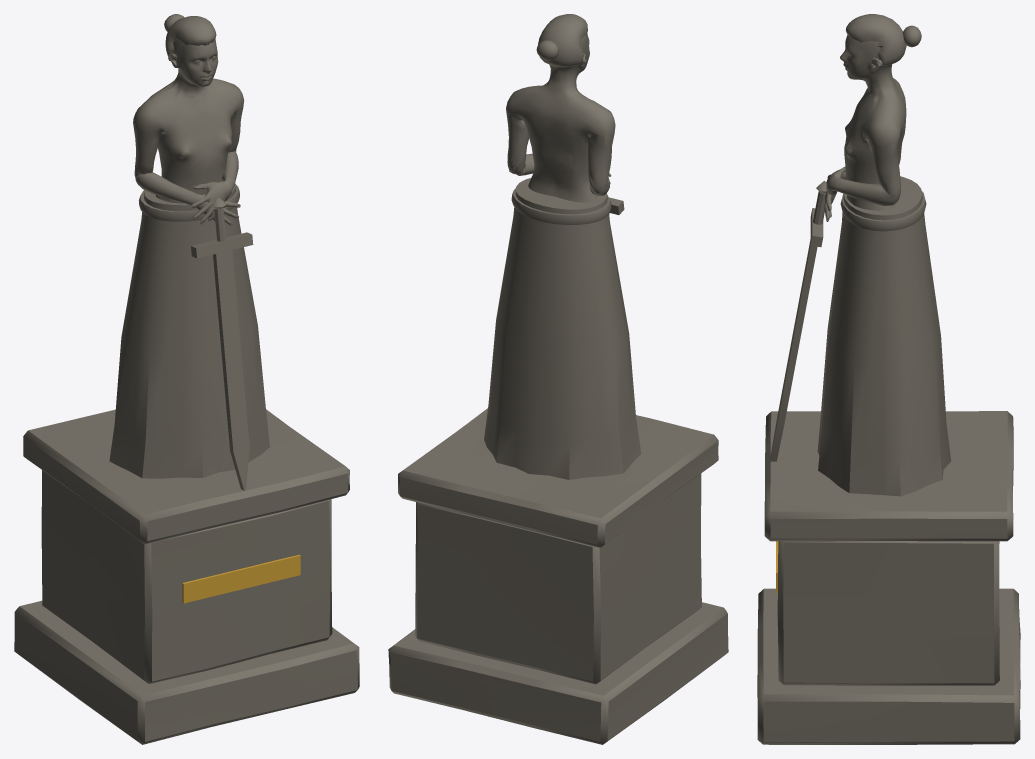
Rendered from statue.glb.
3 renders of one model, left to right at view 1: azimuth 30°, elevation 25°; view 2: azimuth 150°, elevation 25°; view 3: azimuth 270°, elevation 25°, orthographic. The views are drawn at different scales.
Parts seen in each view (by area): view 1: statue; view 2: statue; view 3: statue.
Boxes of the visible parts, <box> form: statue: <box>14,14,359,744</box>; statue: <box>388,14,728,744</box>; statue: <box>757,14,1020,744</box>.
Bounding box in the file's own units: 0.9546 × 2.7 × 0.954.
